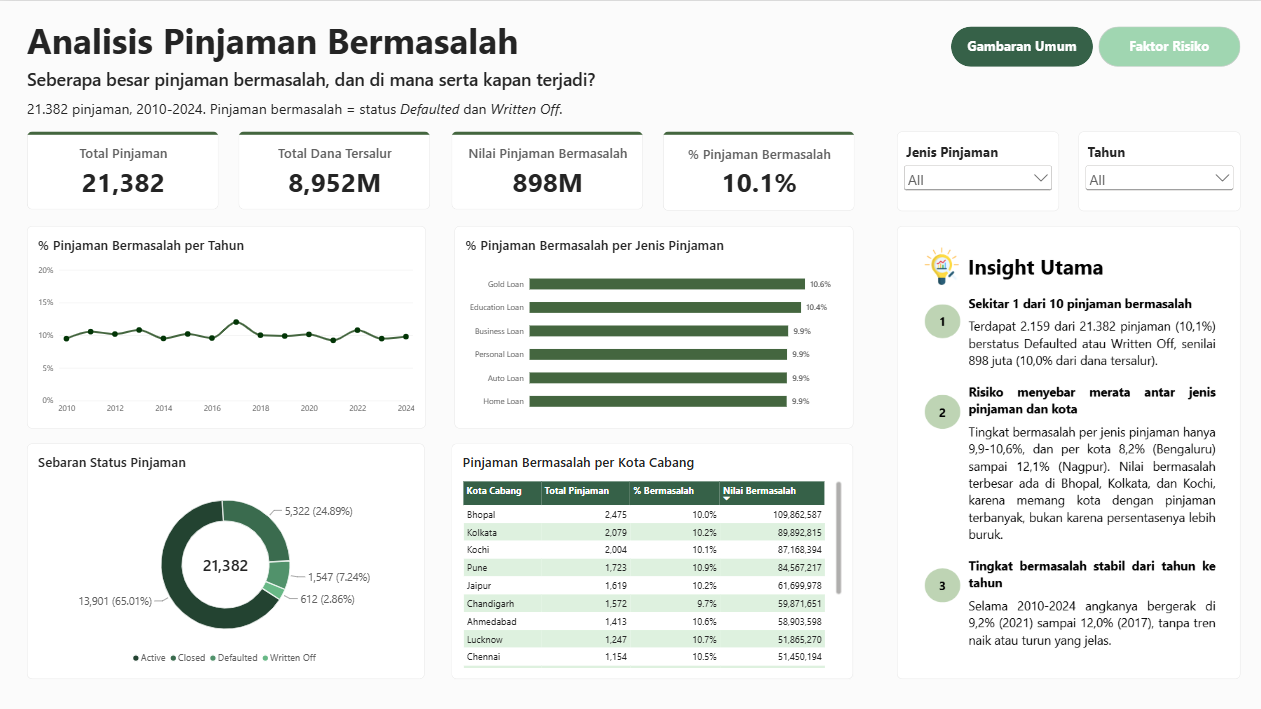

Layout of this report page (visuals, bound fields, positions):
{"tool":"powerbi","page":{"name":"Gambaran Umum","canvas":[1920,1080],"ordinal":0},"visuals":[{"type":"cardVisual","fields":{"Data":["loan_analysis.Total Pokok"]},"box":[361.9,197.6,290.7,118.1],"z":0},{"type":"cardVisual","fields":{"Data":["loan_analysis.Pct Bermasalah"]},"box":[1003.9,197.6,290.7,120.4],"z":1000},{"type":"cardVisual","fields":{"Data":["loan_analysis.Nilai Bermasalah"]},"box":[682.9,197.6,290.7,118.1],"z":2000},{"type":"lineChart","title":"% Pinjaman Bermasalah per Tahun","fields":{"Category":["loan_analysis.start_year"],"Y":["loan_analysis.Pct Bermasalah"]},"box":[40.9,340.7,604.2,306.6],"z":3000},{"type":"clusteredBarChart","title":"% Pinjaman Bermasalah per Jenis Pinjaman","fields":{"Category":["loan_analysis.loan_type"],"Y":["loan_analysis.Pct Bermasalah"]},"box":[688.2,340.7,604.2,306.6],"z":4000},{"type":"donutChart","title":"Sebaran Status Pinjaman","fields":{"Category":["loan_analysis.status"],"Y":["loan_analysis.Total Pinjaman"]},"box":[40.9,670,601.9,356.6],"z":5000},{"type":"textbox","box":[41.1,23.2,788.3,79.4],"z":6000},{"type":"textbox","box":[41.1,101,1203.9,42.4],"z":7000},{"type":"textbox","box":[41.1,148.3,1203.8,38.8],"z":8000},{"type":"textbox","box":[1358.2,340.7,520.1,685.9],"z":9000,"group":"g1"},{"type":"slicer","fields":{"Values":["loan_analysis.loan_type"]},"box":[1358.2,197.6,245.3,120.4],"z":10000},{"type":"slicer","fields":{"Values":["loan_analysis.start_year"]},"box":[1633.1,197.6,245.3,120.4],"z":11000},{"type":"pageNavigator","box":[1440,38.6,438.4,61.3],"z":12000},{"type":"cardVisual","fields":{"Data":["loan_analysis.Total Pinjaman"]},"box":[40.9,197.6,290.7,118.1],"z":13000},{"type":"tableEx","title":"Pinjaman Bermasalah per Kota Cabang","fields":{"Values":["loan_analysis.branch_city","loan_analysis.Total Pinjaman","loan_analysis.Pct Bermasalah","loan_analysis.Nilai Bermasalah"]},"box":[683.7,670.1,608.2,356.4],"z":14000},{"type":"image","box":[1384,358,468,632],"z":14001,"group":"g1"},{"type":"group","id":"g1","title":"Group 1","box":[1358.2,340.7,520.1,685.9],"z":14002}]}

Visuals, with their boxes in screenshot pixels (x1, y1, x2, y2), scaled from the page's 1920x1080 canvas onto the 1261x709 screenshot:
cardVisual - loan_analysis.Total Pokok: [x1=238, y1=130, x2=429, y2=207]
cardVisual - loan_analysis.Pct Bermasalah: [x1=659, y1=130, x2=850, y2=209]
cardVisual - loan_analysis.Nilai Bermasalah: [x1=449, y1=130, x2=639, y2=207]
"% Pinjaman Bermasalah per Tahun" lineChart: [x1=27, y1=224, x2=424, y2=425]
"% Pinjaman Bermasalah per Jenis Pinjaman" clusteredBarChart: [x1=452, y1=224, x2=849, y2=425]
"Sebaran Status Pinjaman" donutChart: [x1=27, y1=440, x2=422, y2=674]
textbox: [x1=27, y1=15, x2=545, y2=67]
textbox: [x1=27, y1=66, x2=818, y2=94]
textbox: [x1=27, y1=97, x2=818, y2=123]
textbox: [x1=892, y1=224, x2=1234, y2=674]
slicer - loan_analysis.loan_type: [x1=892, y1=130, x2=1053, y2=209]
slicer - loan_analysis.start_year: [x1=1073, y1=130, x2=1234, y2=209]
pageNavigator: [x1=946, y1=25, x2=1234, y2=66]
cardVisual - loan_analysis.Total Pinjaman: [x1=27, y1=130, x2=218, y2=207]
"Pinjaman Bermasalah per Kota Cabang" tableEx: [x1=449, y1=440, x2=848, y2=674]
image: [x1=909, y1=235, x2=1216, y2=650]
"Group 1" group: [x1=892, y1=224, x2=1234, y2=674]
